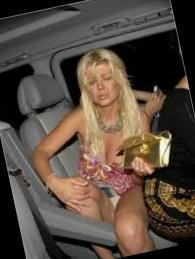Drunk: (87, 62, 121, 106)
